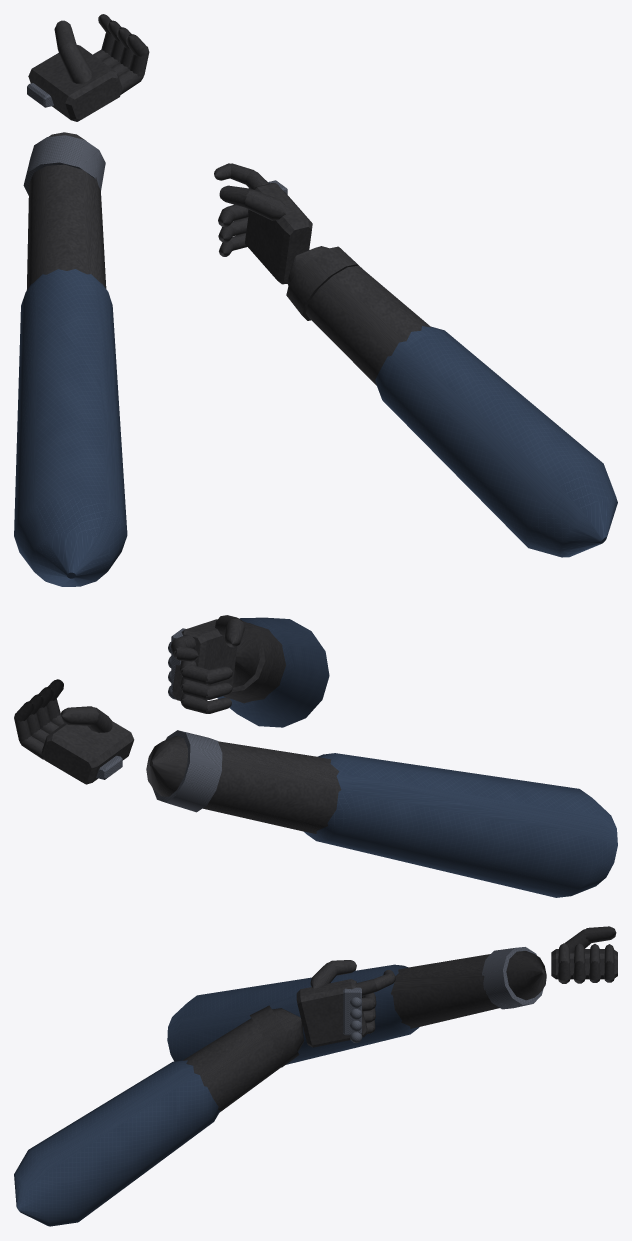
Rendered from fp_hands_ct_rifle.glb.
The picture shows the model from 3 angles, top to bottom: view 1: azimuth 30°, elevation 25°; view 2: azimuth 150°, elevation 25°; view 3: azimuth 270°, elevation 25°; orthographic projection. The views are drawn at different scales.
Parts seen in each view (by area): view 1: WeaponRoot; view 2: WeaponRoot; view 3: WeaponRoot.
Part boxes in pixels (<box>): WeaponRoot: <box>14,14,617,586</box>; WeaponRoot: <box>14,615,617,897</box>; WeaponRoot: <box>14,926,617,1226</box>.
Size of the model in its own units: 0.5145 by 0.3141 by 0.708.
3 materials, 3 textured.
